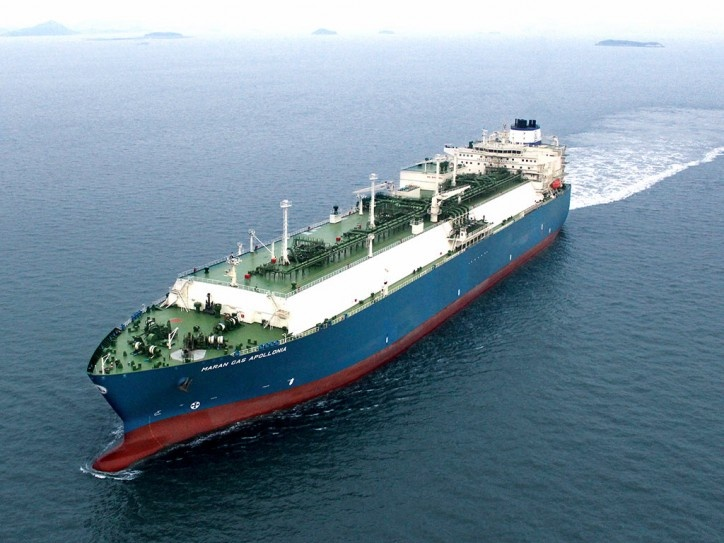Cargoship: (76, 112, 573, 477)
